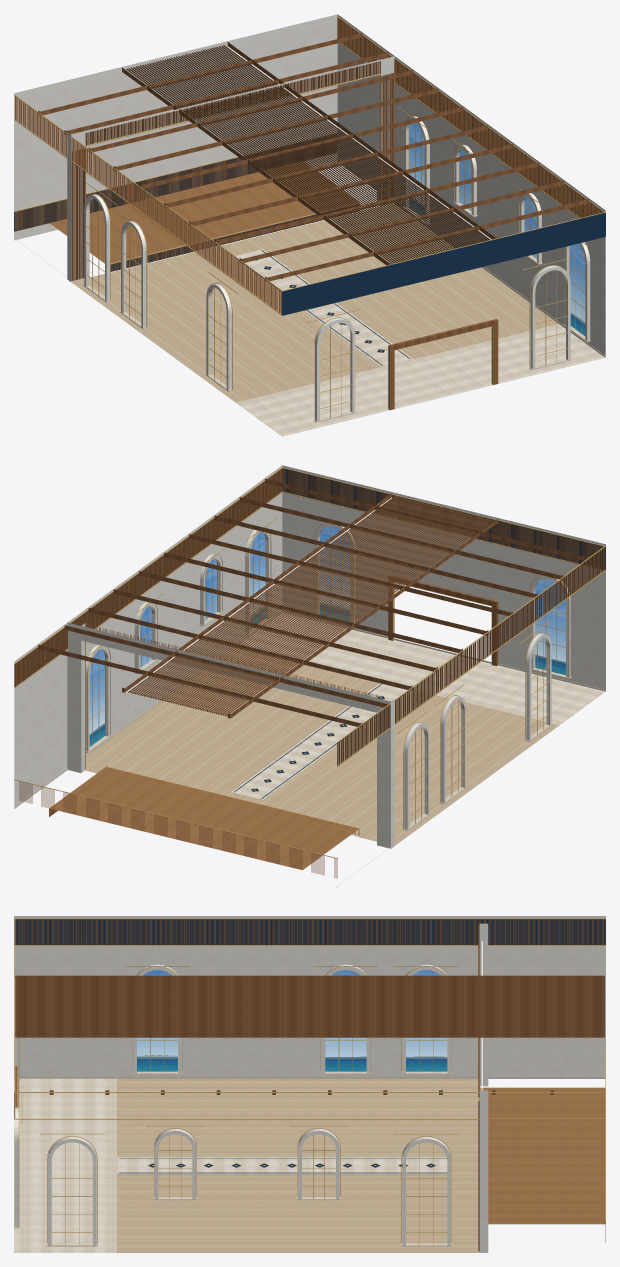
The model's file is resort_shell.glb.
3 views of the same model, one above another, from view 1: azimuth 30°, elevation 25°; view 2: azimuth 150°, elevation 25°; view 3: azimuth 270°, elevation 25° (orthographic). The views are drawn at different scales.
Parts seen in each view (by area): view 1: resort; view 2: resort; view 3: resort.
Part boxes in pixels (x1=…): resort: x1=14, y1=14, x2=605, y2=436; resort: x1=14, y1=465, x2=605, y2=887; resort: x1=14, y1=916, x2=605, y2=1252.
Size of the model in its own units: 46 by 20 by 66.
10 materials, 7 textured.
